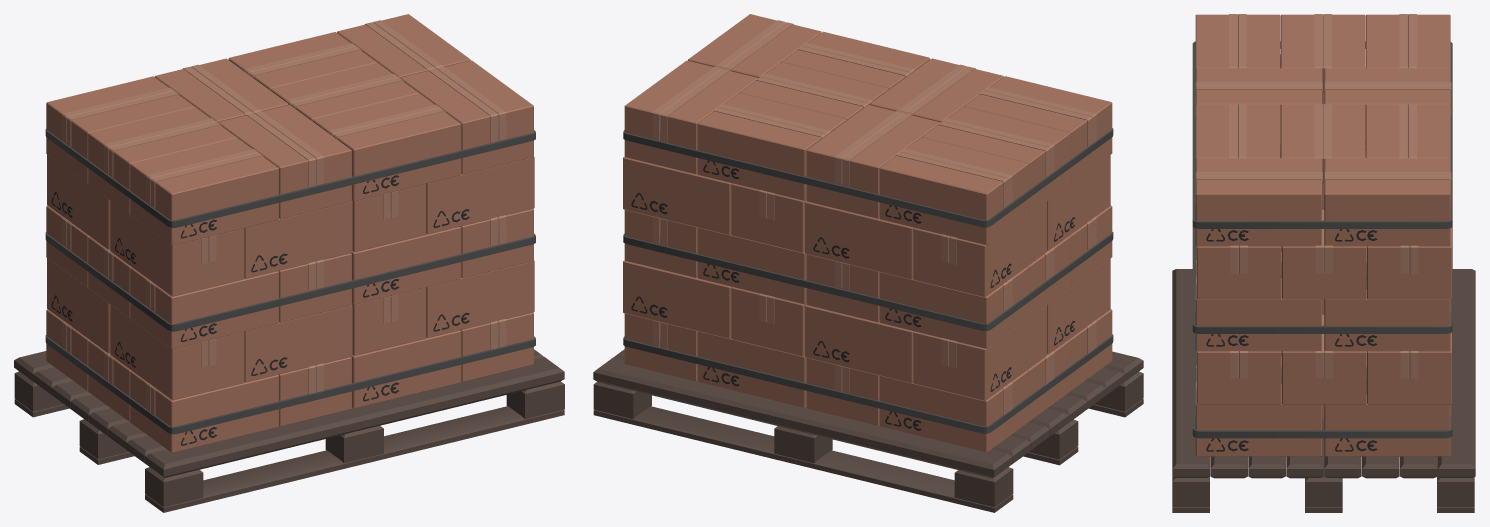
Rendered from props_18.glb.
3 renders of one model, left to right at view 1: azimuth 30°, elevation 25°; view 2: azimuth 150°, elevation 25°; view 3: azimuth 270°, elevation 25°, orthographic.
Visible parts, largest first — view 1: props_18; view 2: props_18; view 3: props_18.
Boxes of the visible parts, x1,y1,x2,y2 form: props_18: (14, 14, 564, 512); props_18: (593, 14, 1143, 512); props_18: (1172, 14, 1475, 512).
Size of the model in its own units: 3.08 by 2.25 by 1.99.
Materials: 1 (1 with a texture image).
